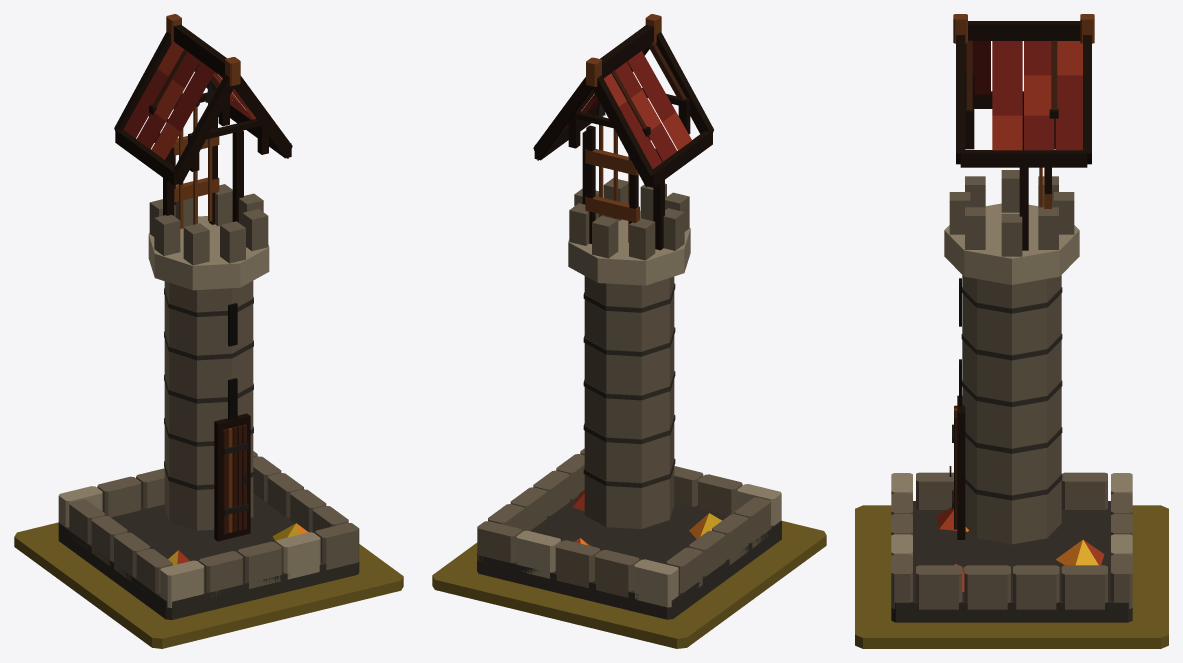
File: archer_tower_t1.glb
3 views of the same model, side by side, from view 1: azimuth 30°, elevation 25°; view 2: azimuth 150°, elevation 25°; view 3: azimuth 270°, elevation 25° (orthographic). The views are drawn at different scales.
Parts seen in each view (by area): view 1: MMR | archer_tower | T01 Architecture.001, MMR | archer_tower | Tier 01 Ground.001, MMR | archer_tower | T01 Roof Supports.001; view 2: MMR | archer_tower | T01 Architecture.001, MMR | archer_tower | Tier 01 Ground.001, MMR | archer_tower | T01 Roof Supports.001, MMR | archer_tower | T01 Autumn Dressing.001; view 3: MMR | archer_tower | T01 Architecture.001, MMR | archer_tower | Tier 01 Ground.001, MMR | archer_tower | T01 Roof Supports.001, MMR | archer_tower | T01 Autumn Dressing.001.
Part boxes in pixels (x1,y1,x2,y2): MMR | archer_tower | T01 Architecture.001: (58, 14, 359, 619); MMR | archer_tower | Tier 01 Ground.001: (14, 522, 403, 648); MMR | archer_tower | T01 Roof Supports.001: (149, 49, 268, 171); MMR | archer_tower | T01 Architecture.001: (477, 14, 781, 619); MMR | archer_tower | Tier 01 Ground.001: (432, 521, 826, 648); MMR | archer_tower | T01 Roof Supports.001: (568, 41, 690, 148); MMR | archer_tower | T01 Autumn Dressing.001: (572, 490, 721, 545); MMR | archer_tower | T01 Architecture.001: (891, 14, 1132, 622); MMR | archer_tower | Tier 01 Ground.001: (855, 505, 1168, 648); MMR | archer_tower | T01 Roof Supports.001: (965, 40, 1058, 149); MMR | archer_tower | T01 Autumn Dressing.001: (936, 507, 1104, 591).
Bounding box in the file's own units: 1.3 × 2.59 × 1.3.
Materials: 1 (1 with a texture image).
